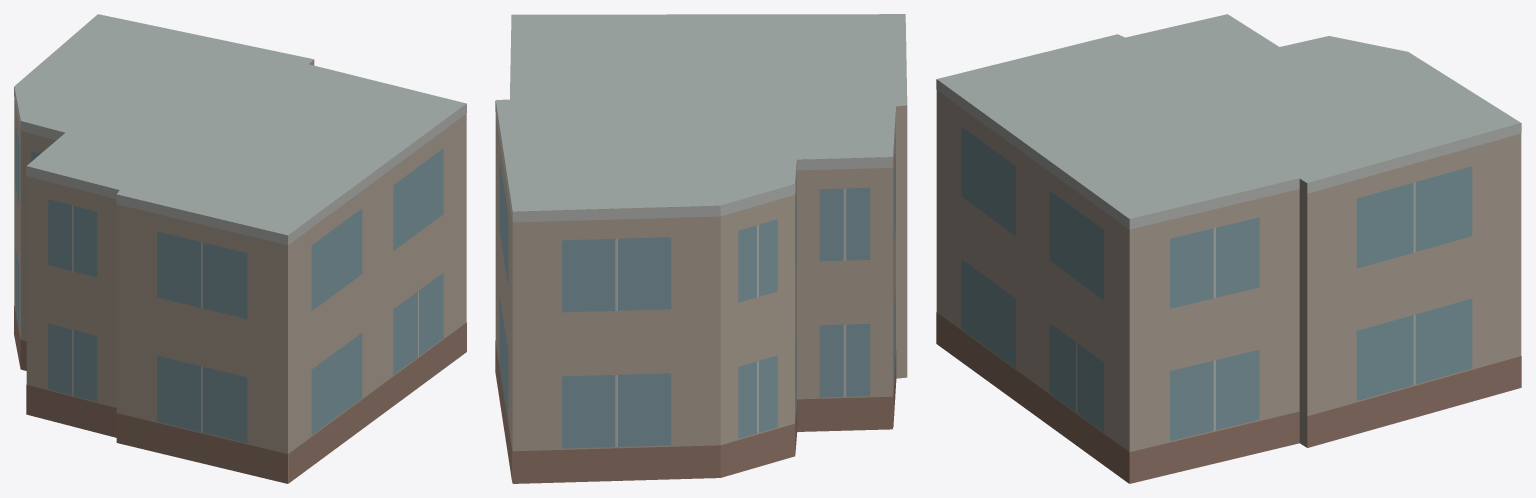
File: survey-upis-32659216.glb
3 renders of one model, left to right at view 1: azimuth 30°, elevation 25°; view 2: azimuth 150°, elevation 25°; view 3: azimuth 270°, elevation 25°, orthographic. The views are drawn at different scales.
Visible parts, largest first — view 1: survey-upis-32659216.tmp; view 2: survey-upis-32659216.tmp; view 3: survey-upis-32659216.tmp.
Part boxes in pixels (bbox=[...]): survey-upis-32659216.tmp: bbox=[14, 14, 466, 483]; survey-upis-32659216.tmp: bbox=[495, 14, 907, 483]; survey-upis-32659216.tmp: bbox=[936, 14, 1521, 483].
Size of the model in its own units: 10.14 by 6.1 by 12.22.
